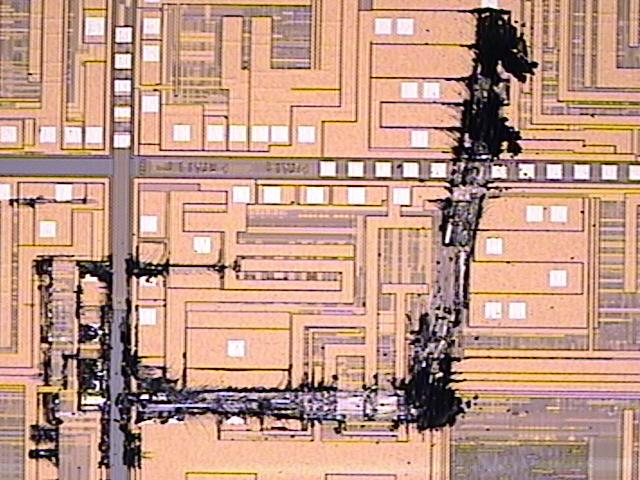SCRATCH: (26, 3, 537, 477)
